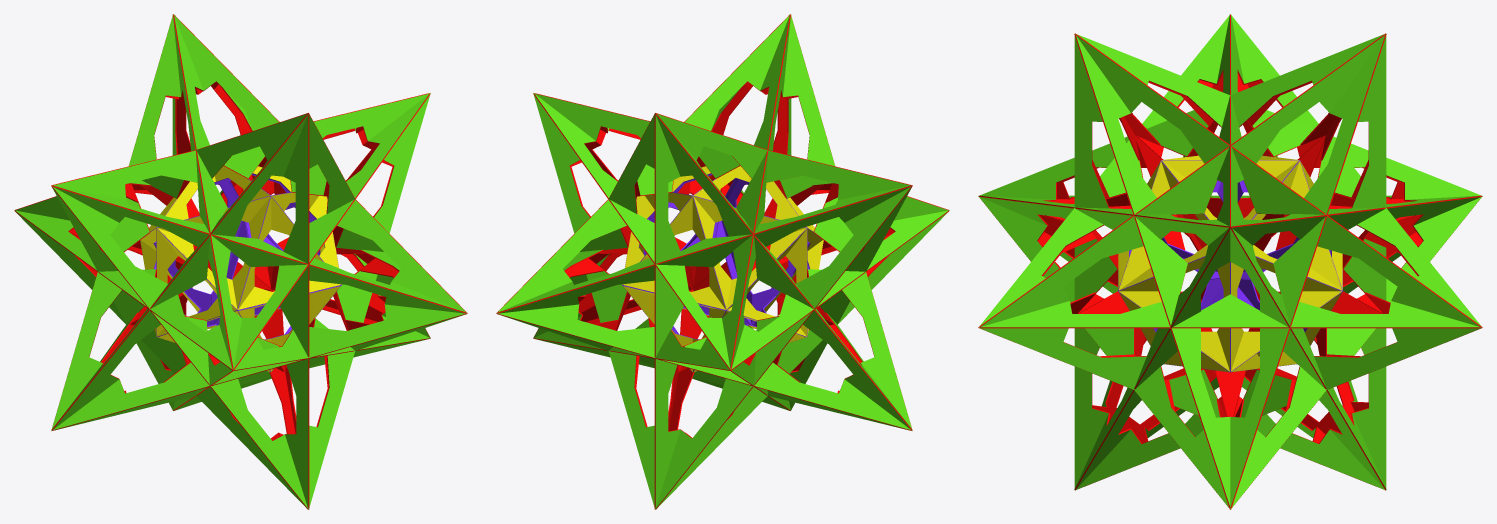
Rendered from GreatIcosahedronS3.glb.
3 views of the same model, side by side, from view 1: azimuth 30°, elevation 25°; view 2: azimuth 150°, elevation 25°; view 3: azimuth 270°, elevation 25° (orthographic). The views are drawn at different scales.
Visible parts, largest first — view 1: Mesh_0, Mesh_0.003; view 2: Mesh_0, Mesh_0.003; view 3: Mesh_0, Mesh_0.003.
Boxes of the visible parts, x1,y1,x2,y2 form: Mesh_0: [14, 14, 467, 509]; Mesh_0.003: [140, 166, 341, 372]; Mesh_0: [496, 14, 949, 509]; Mesh_0.003: [622, 166, 823, 372]; Mesh_0: [978, 14, 1482, 509]; Mesh_0.003: [1118, 155, 1342, 372].
Bounding box in the file's own units: 7.5 × 7.5 × 7.5.
